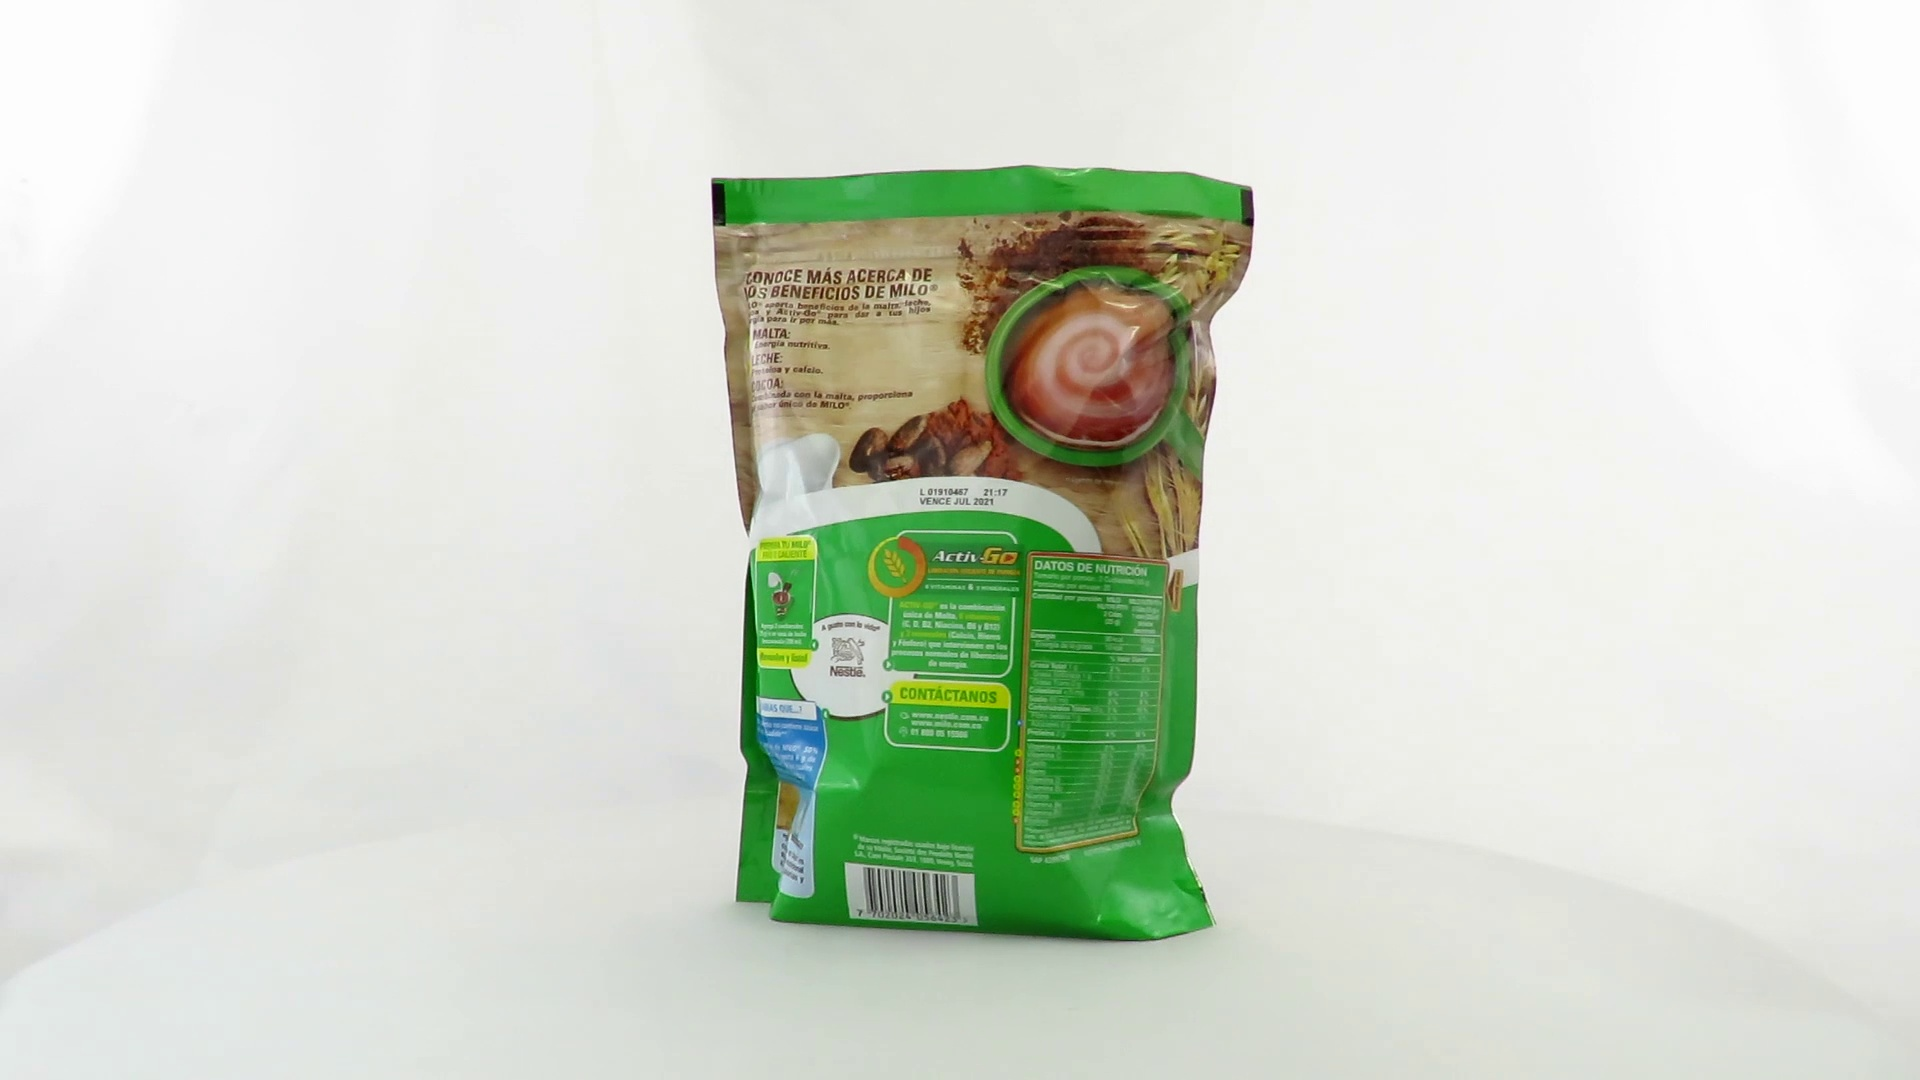COL0170205DYP50000: (705, 160, 1261, 948)
